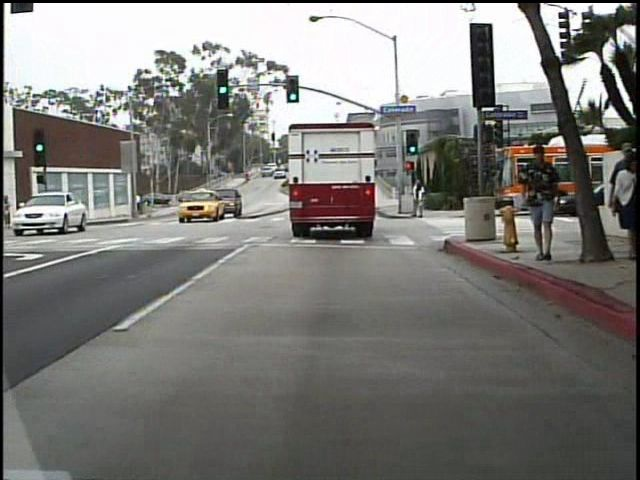person: (531, 138, 573, 270), (601, 153, 638, 260), (405, 177, 430, 222), (37, 189, 53, 229), (131, 187, 148, 220)
